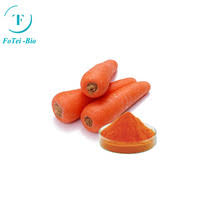carrot: (80, 76, 153, 128), (77, 52, 117, 98)
